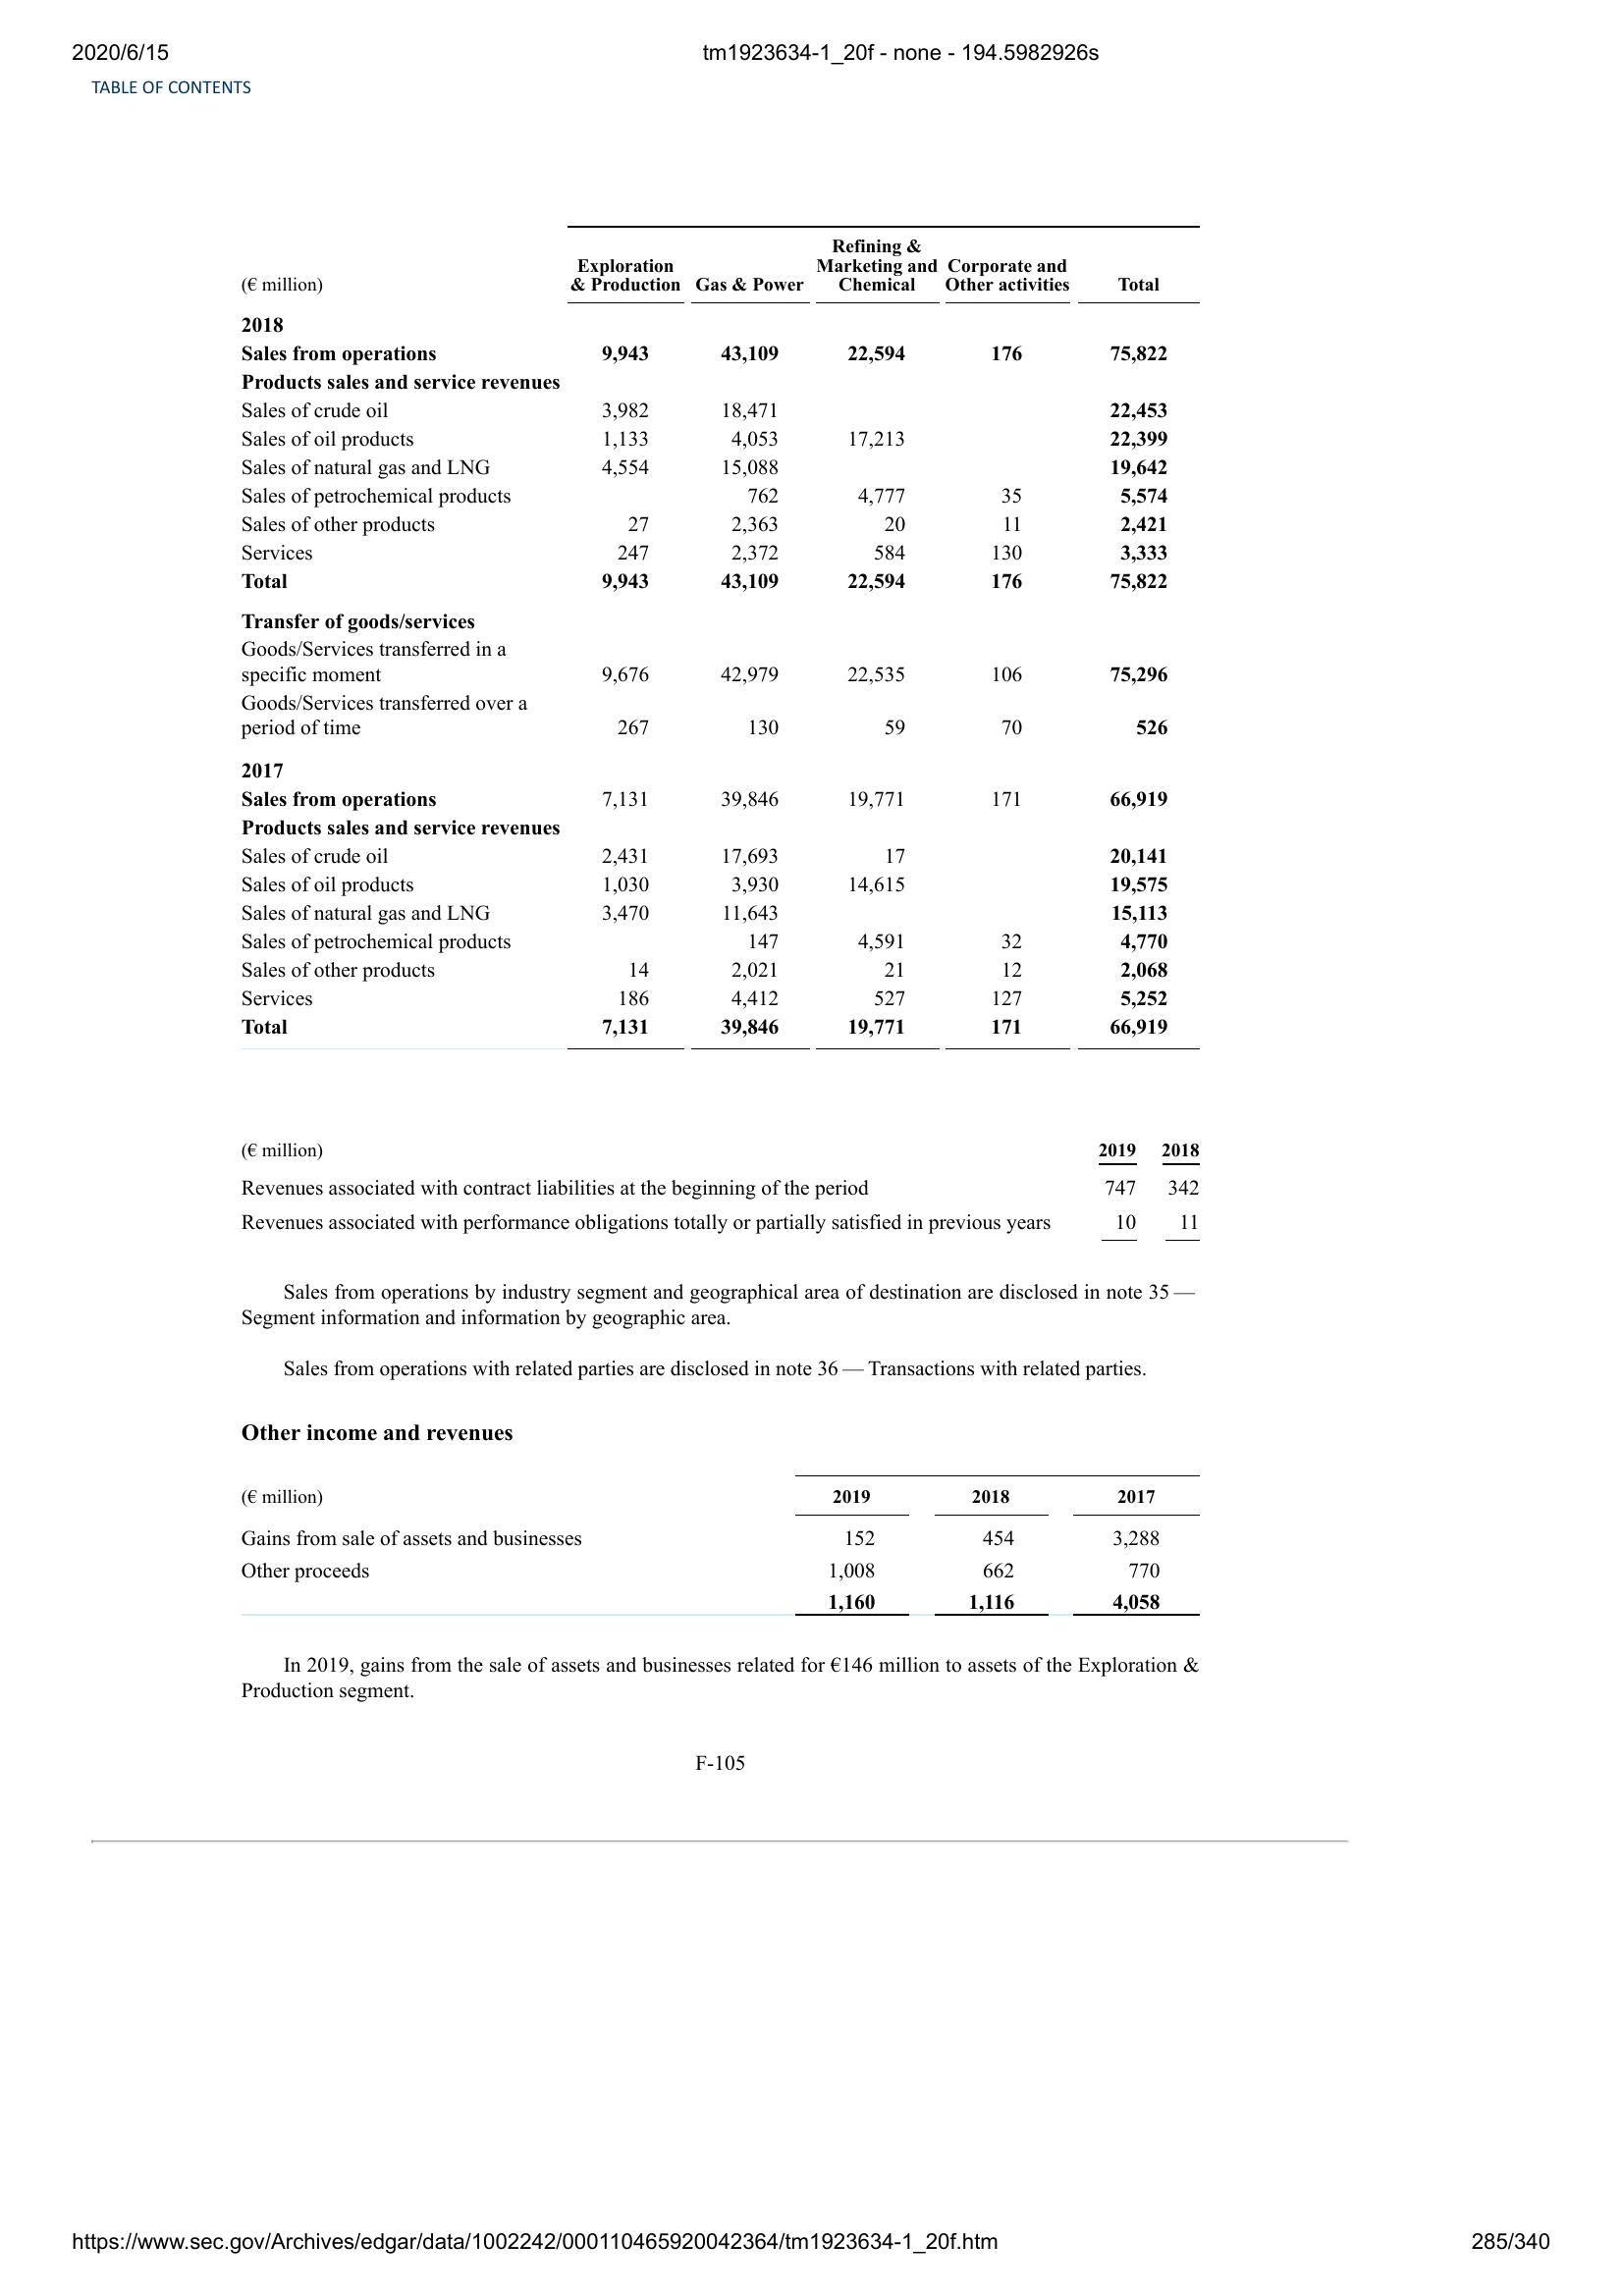table: (235, 212, 1208, 1065), (242, 1462, 1205, 1622), (235, 1127, 1205, 1250)
